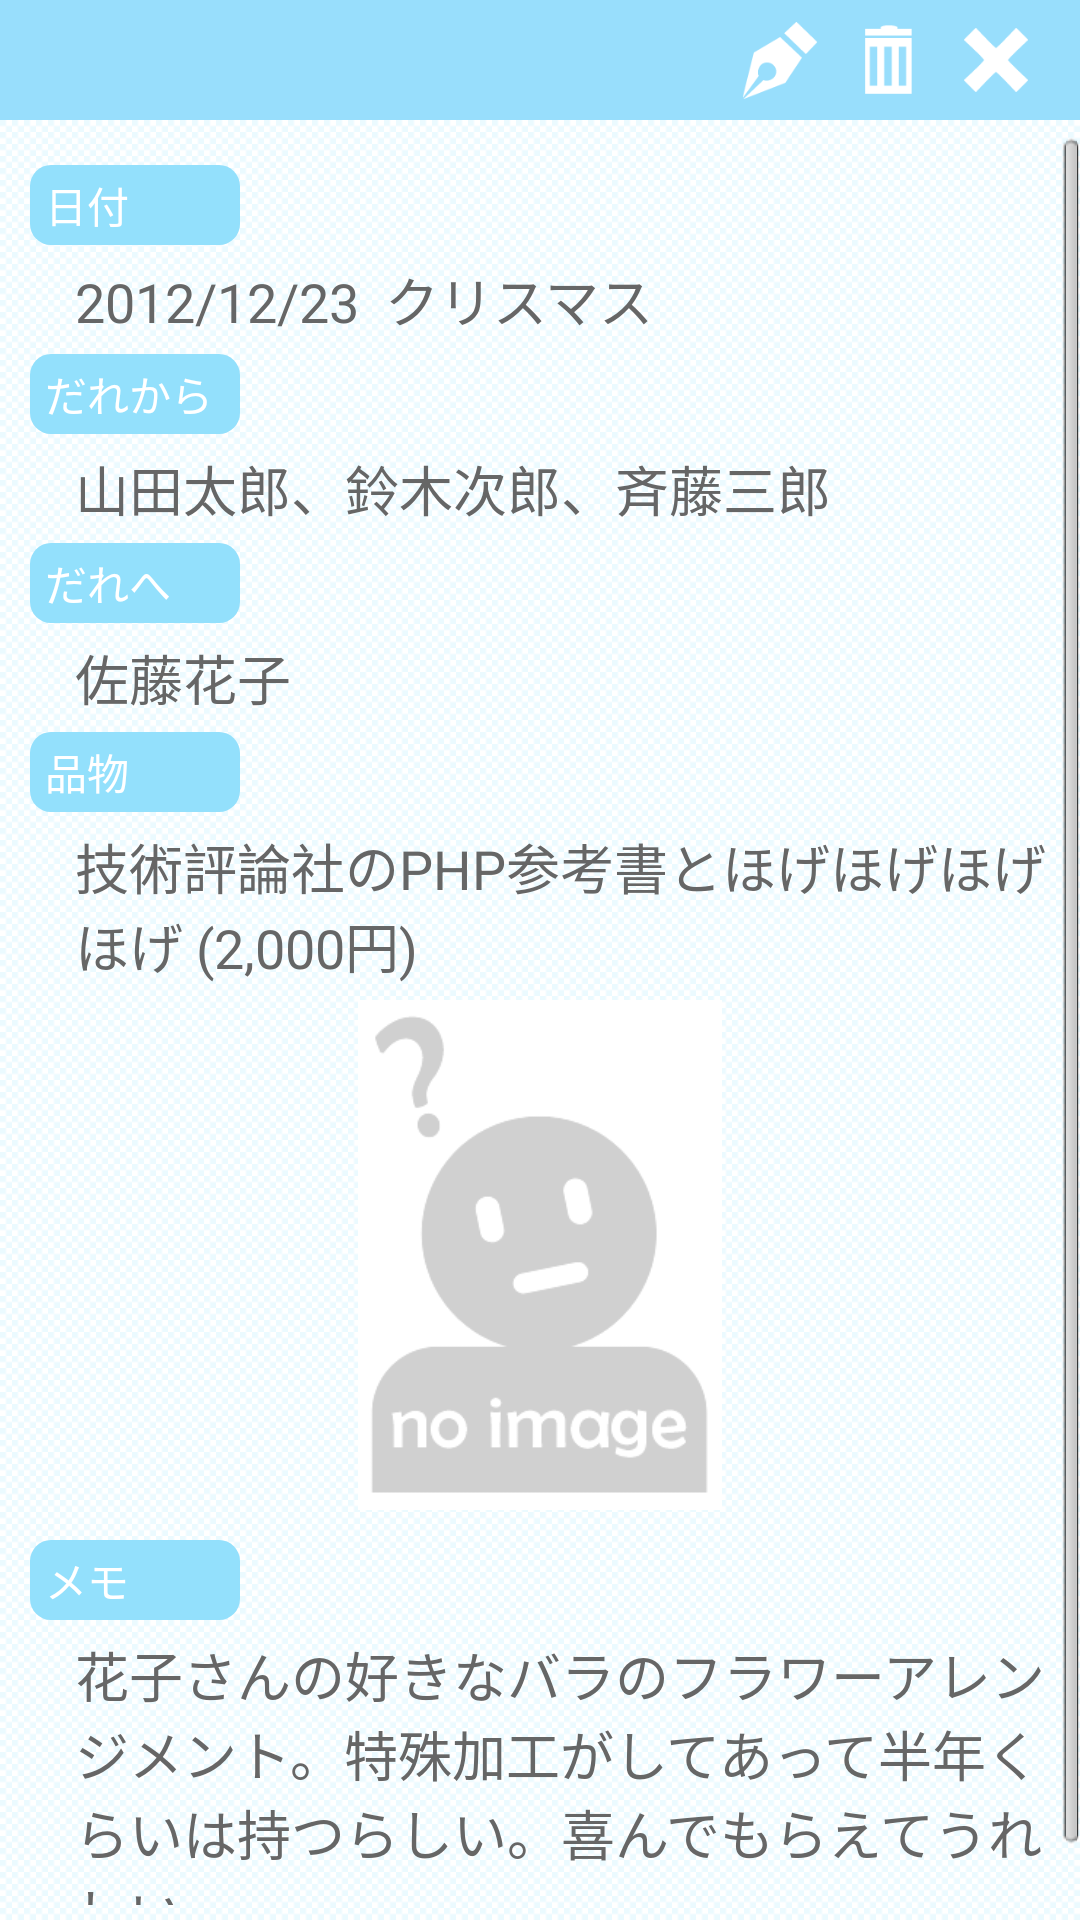

Point at icon controls on the screen. Image size 1080×1920, points as (x=x, y=y).
close: (x=996, y=60)
delete: (x=888, y=59)
edit: (x=780, y=60)
